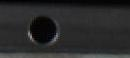holes: (27, 13, 59, 47)
